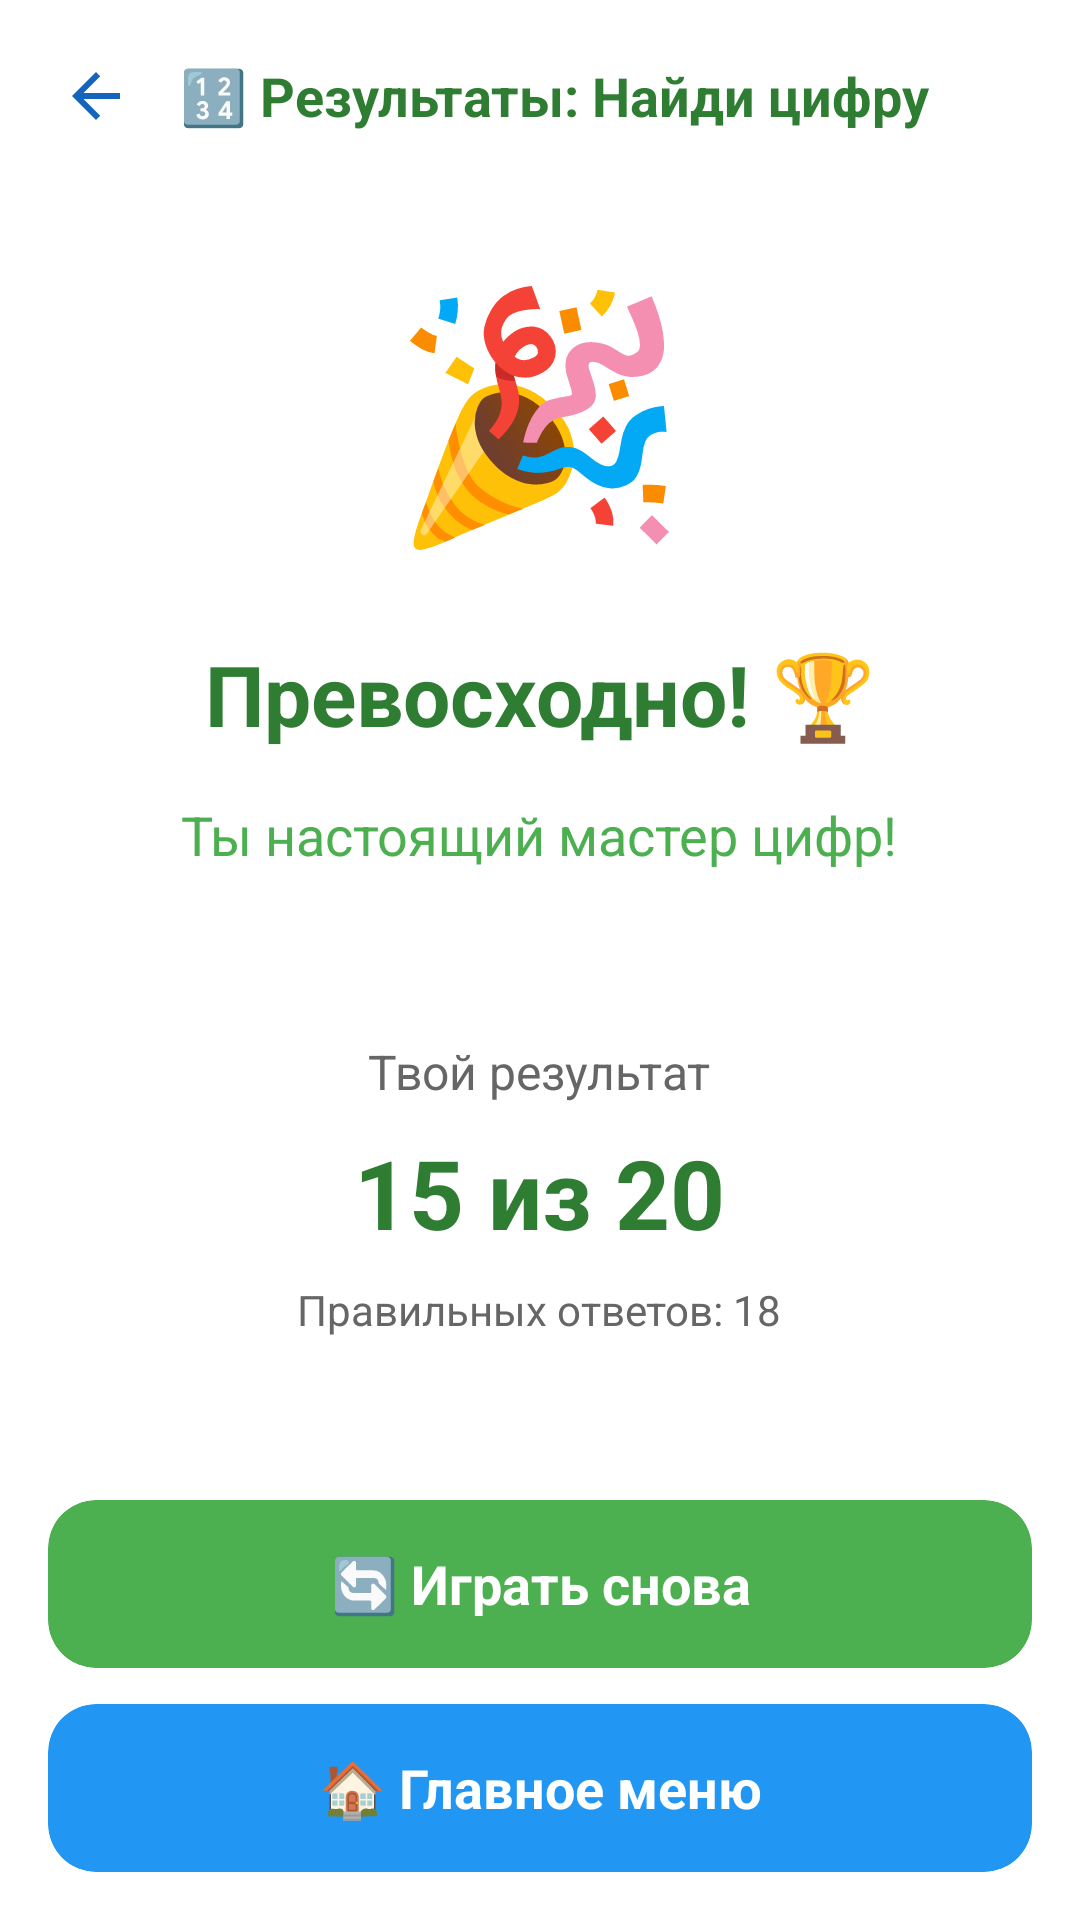

Named icons in this screenshot (1080 × 1920) and their bounding boxes, [x1,y1,x2,y2]:
Назад: [72,72,120,120]
